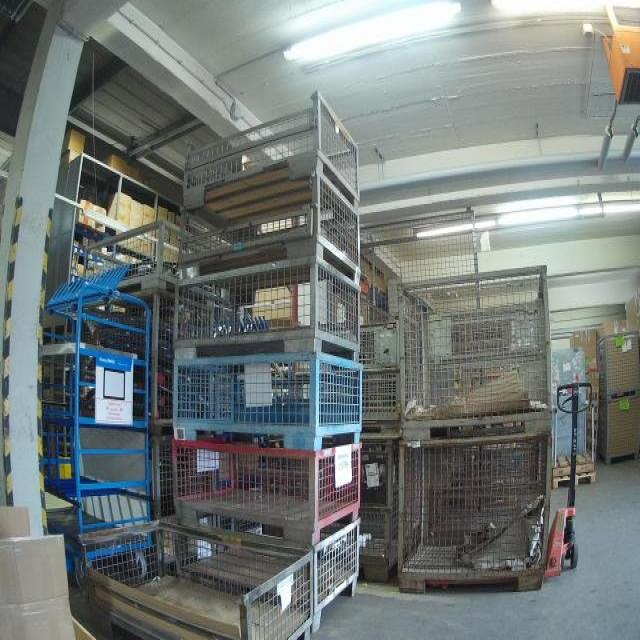pallet: (586, 373, 600, 462), (552, 471, 596, 491)
pallet_truck: (542, 381, 594, 582)
stillage: (82, 514, 316, 637), (394, 261, 561, 430), (401, 434, 558, 603), (161, 511, 370, 635), (175, 79, 368, 199), (165, 251, 367, 355), (172, 166, 368, 271), (49, 284, 182, 433), (169, 342, 369, 437), (171, 428, 370, 521), (143, 437, 242, 513), (70, 224, 180, 292), (357, 426, 403, 583), (595, 331, 640, 398), (601, 401, 638, 465)
